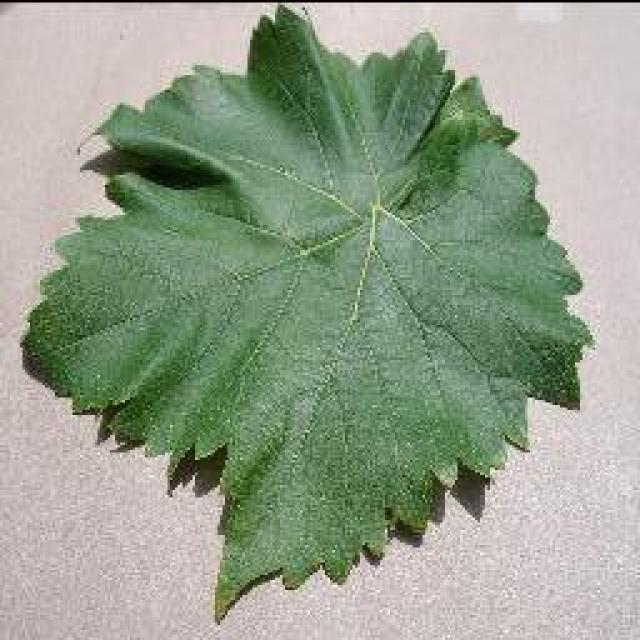Grape___healthy: (17, 0, 601, 628)
